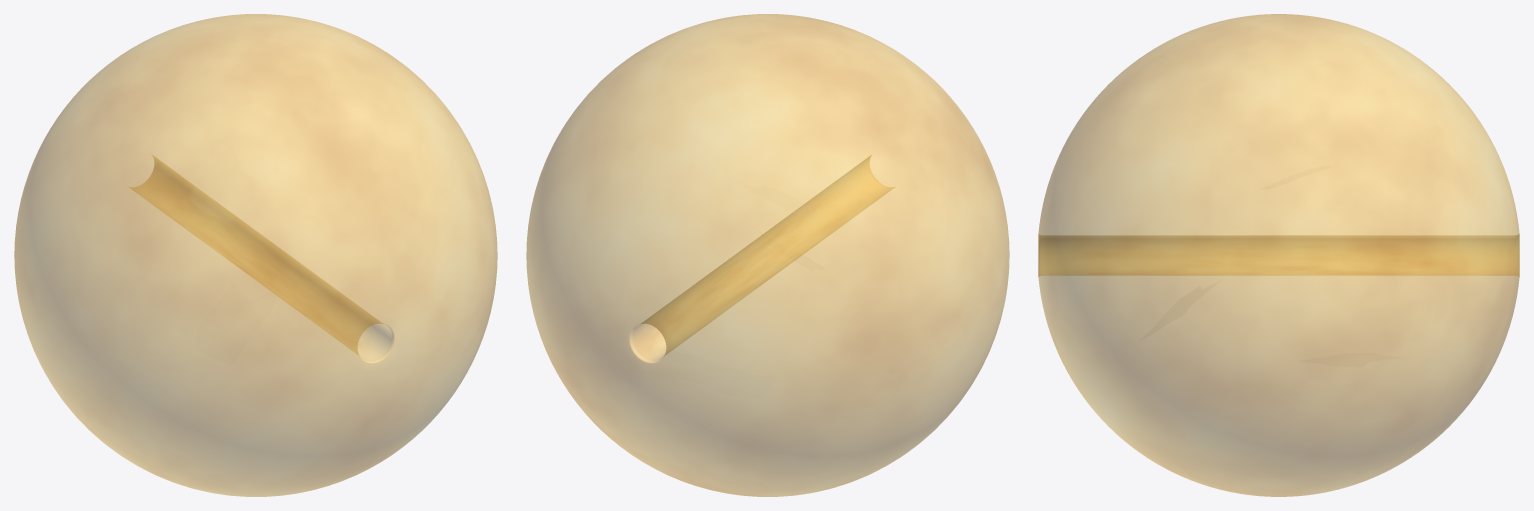
The model's file is citrine-12mm.glb.
3 views of the same model, side by side, from view 1: azimuth 30°, elevation 25°; view 2: azimuth 150°, elevation 25°; view 3: azimuth 270°, elevation 25° (orthographic).
Parts seen in each view (by area): view 1: citrine.001; view 2: citrine.001; view 3: citrine.001.
Part boxes in pixels (box(x1,y1,x2,y2)): citrine.001: box(14, 14, 497, 496); citrine.001: box(526, 14, 1009, 496); citrine.001: box(1038, 14, 1519, 496).
Bounding box in the file's own units: 0.012 × 0.012 × 0.012.
Materials: 2 (1 with a texture image).
